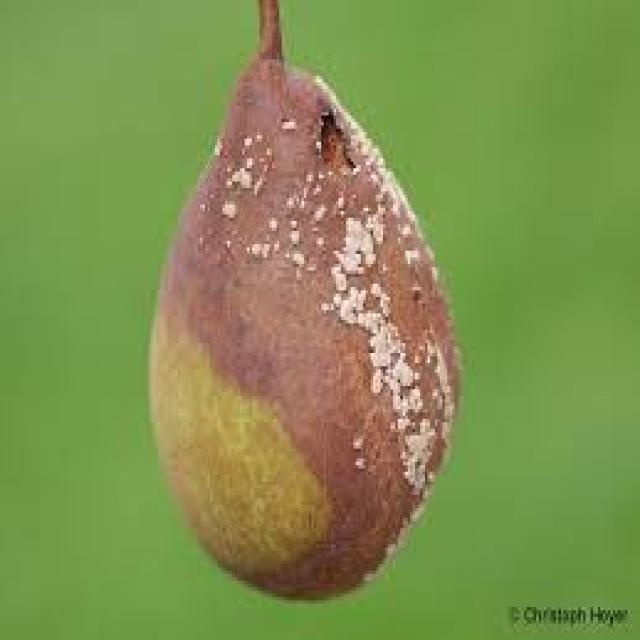organic waste: (141, 0, 457, 594)
